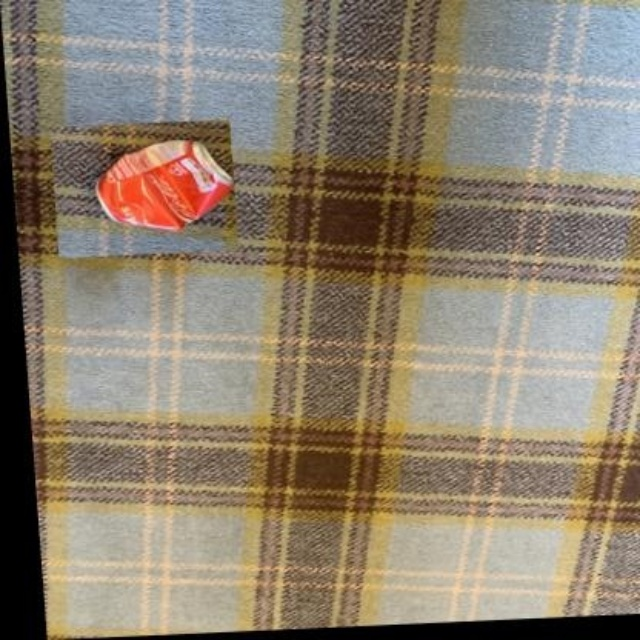trash: (97, 140, 232, 229)
